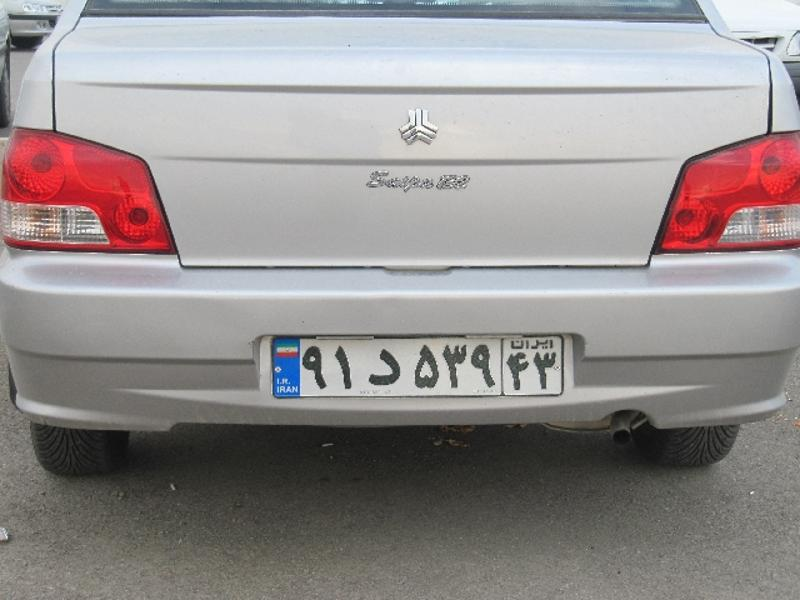Plate: (258, 323, 579, 414)
